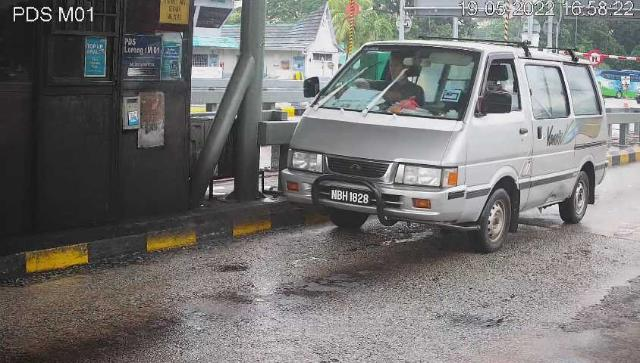License_Plate: (329, 186, 376, 210)
van: (281, 40, 609, 256)
